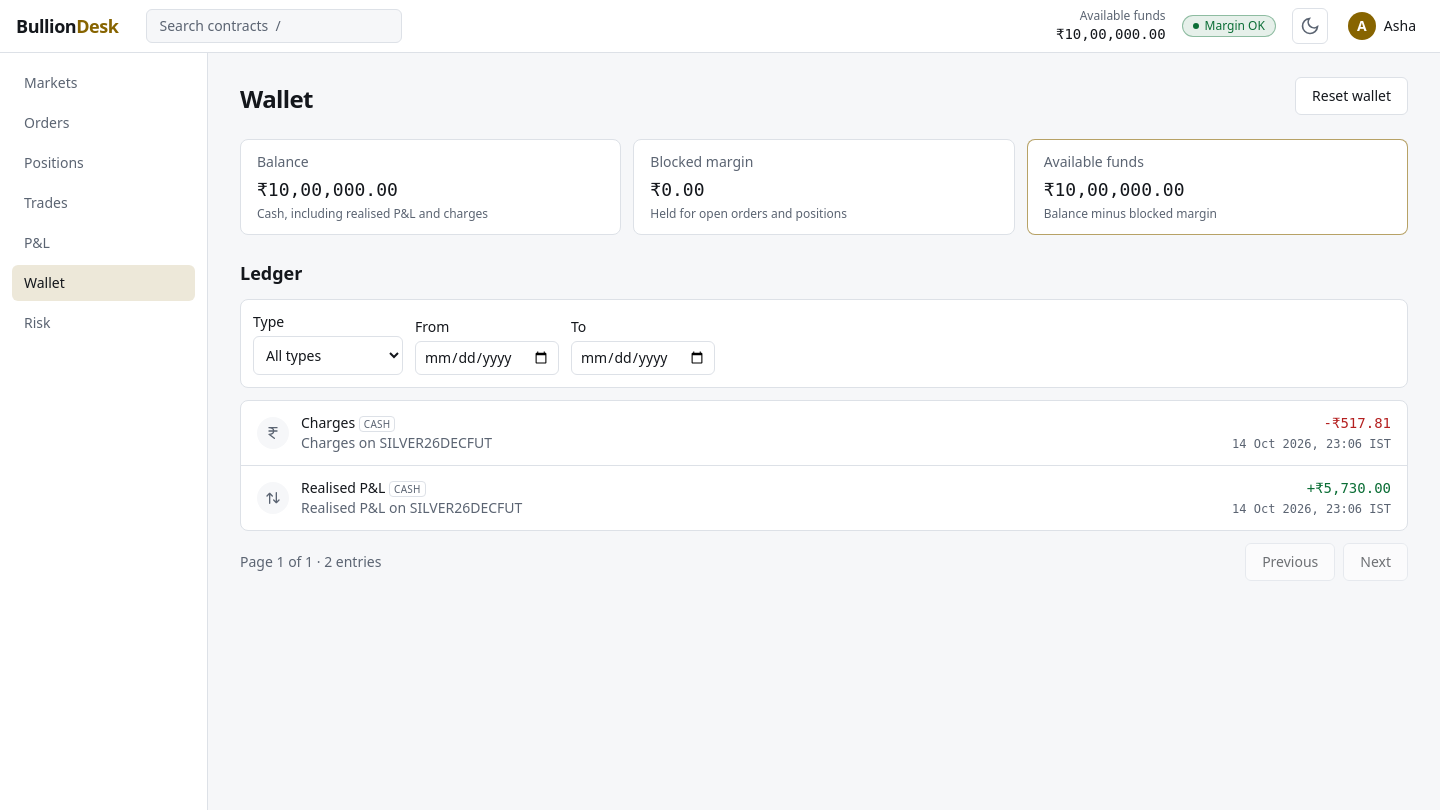
wallet page › explains a reset refused because margin is blocked (422)
Click the button "Reset wallet": (1352, 96) [1295,77,1408,115]
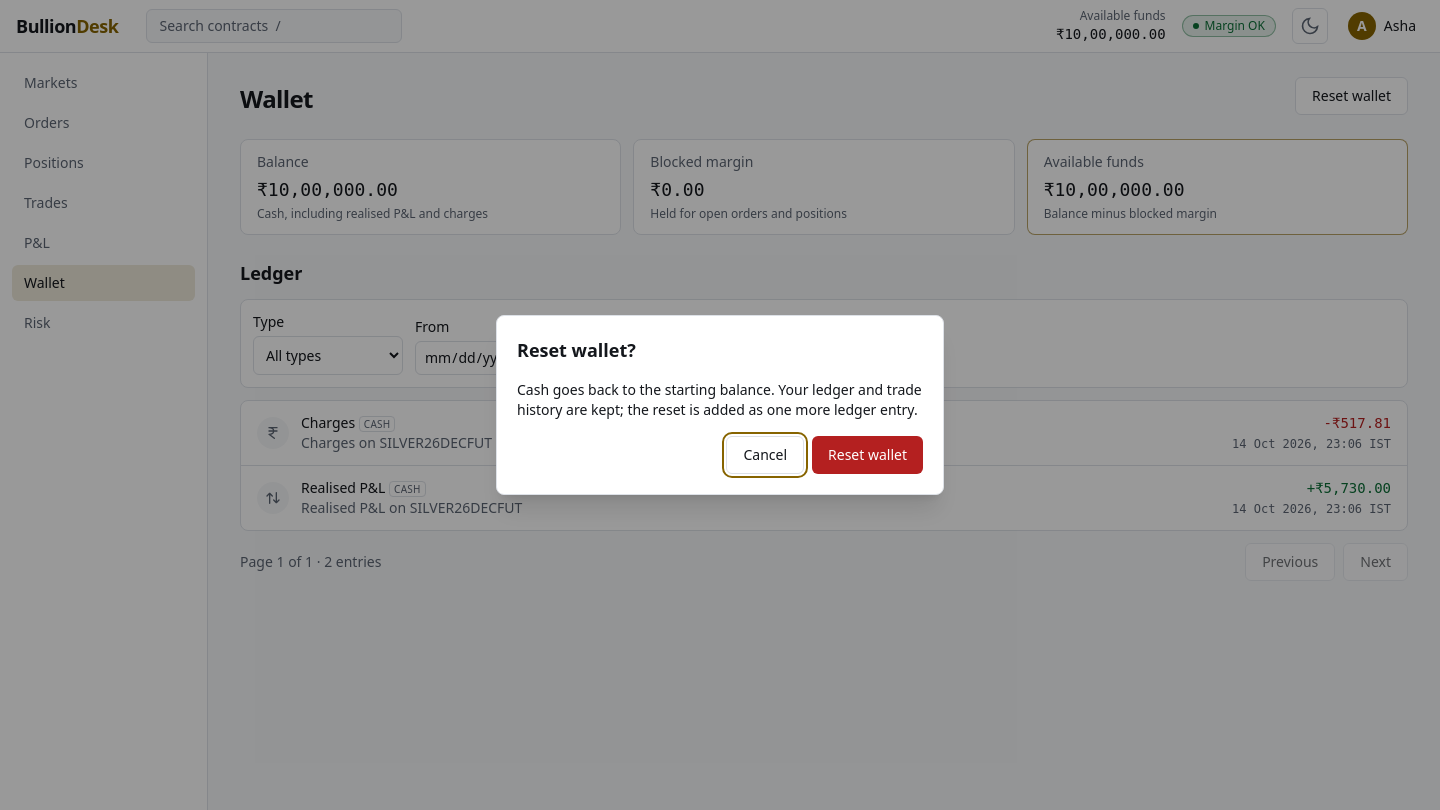
Click the button "Reset wallet": (868, 455) [812,436,923,474]
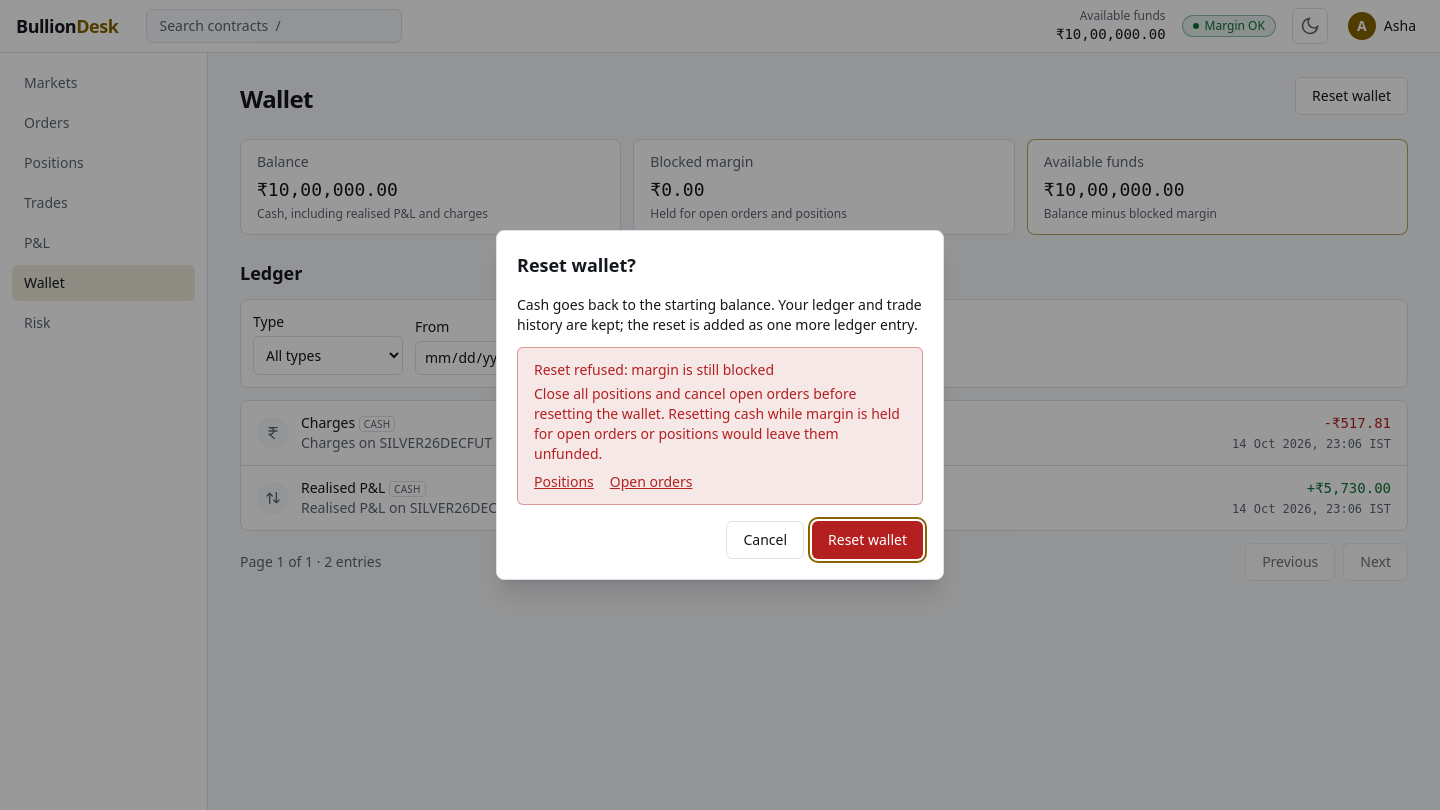
Check: the message shows "Reset refused: margin is still blocked", box [534,360,774,379]
Check: the message shows "Close all positions and cancel open orders", box [534,384,856,423]
